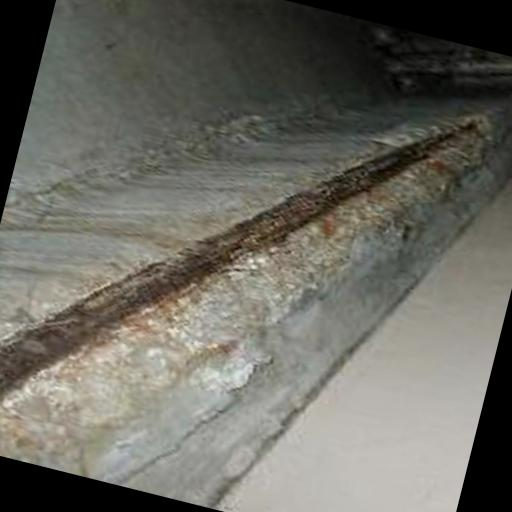spalling: (0, 113, 496, 429)
